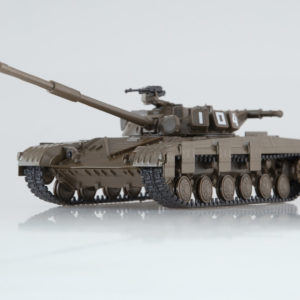Battle Tank: (14, 95, 300, 208)
